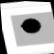correct: (18, 15, 44, 37)
